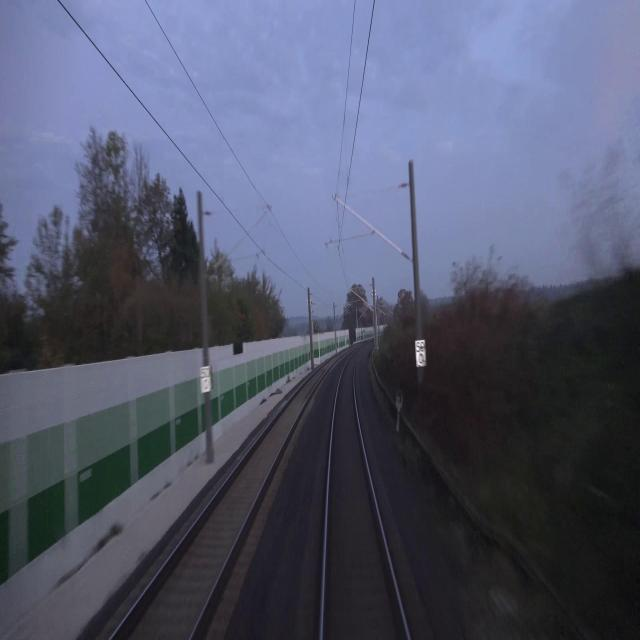rail-track: (114, 361, 330, 639), (324, 352, 406, 639)
